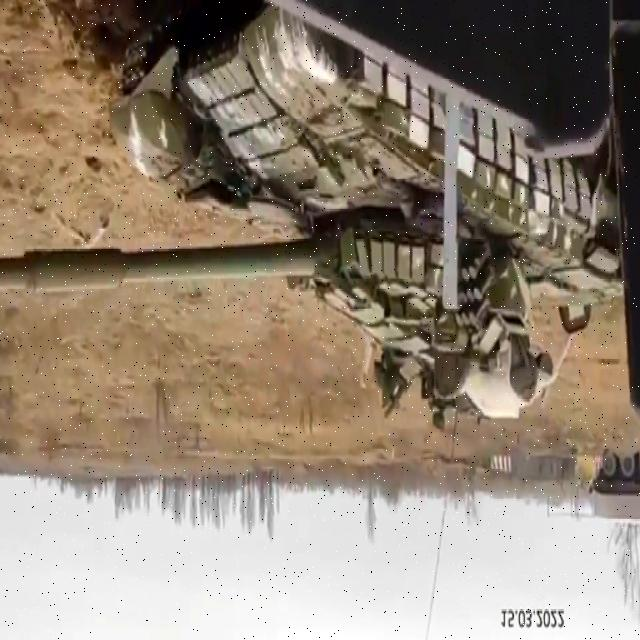TANK: (0, 2, 628, 436)
